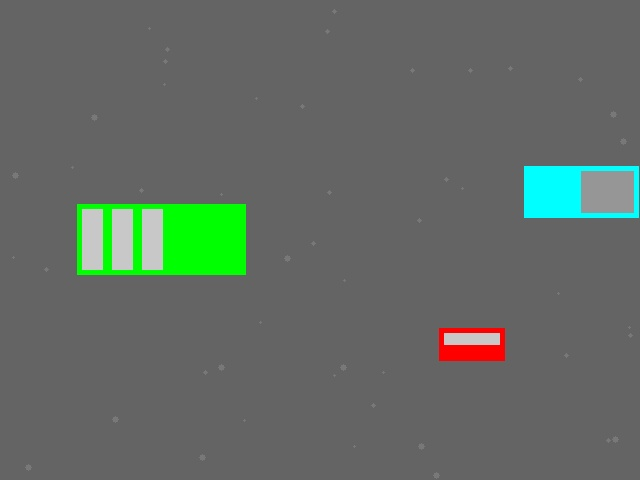bus: (77, 204, 245, 274)
car: (439, 328, 504, 360)
truck: (524, 166, 638, 217)
